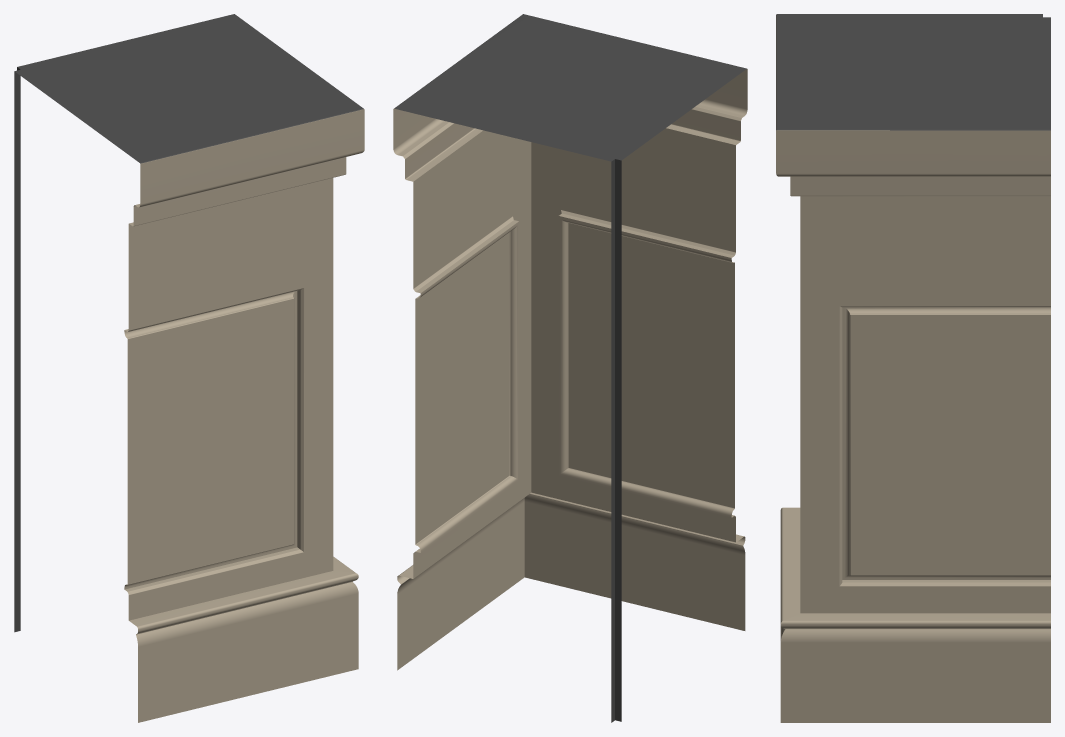
Rendered from Wallset_02.1.03.fbx.
The picture shows the model from 3 angles, left to right: view 1: azimuth 30°, elevation 25°; view 2: azimuth 150°, elevation 25°; view 3: azimuth 270°, elevation 25°; orthographic projection. The views are drawn at different scales.
Visible parts, largest first — view 1: polySurface12; view 2: polySurface12; view 3: polySurface12.
Boxes of the visible parts, <box> form: polySurface12: <box>14,14,364,722</box>; polySurface12: <box>393,14,747,722</box>; polySurface12: <box>776,14,1050,722</box>.
Bounding box in the file's own units: 102 × 243 × 102.
